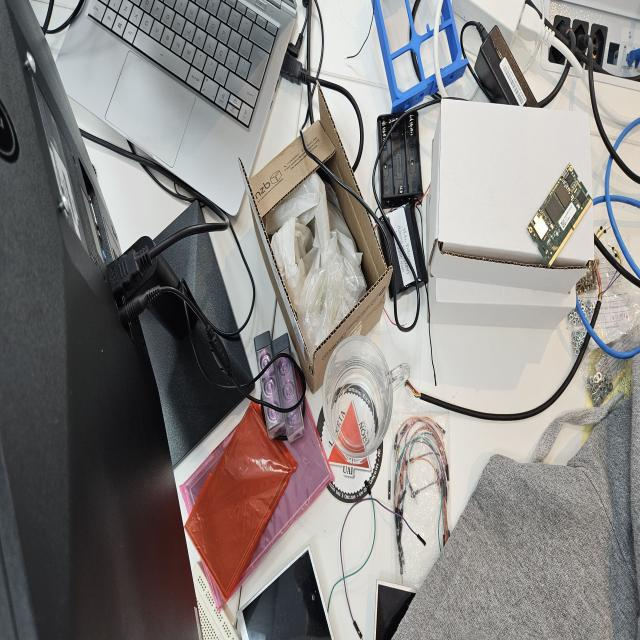som: (523, 158, 599, 266)
